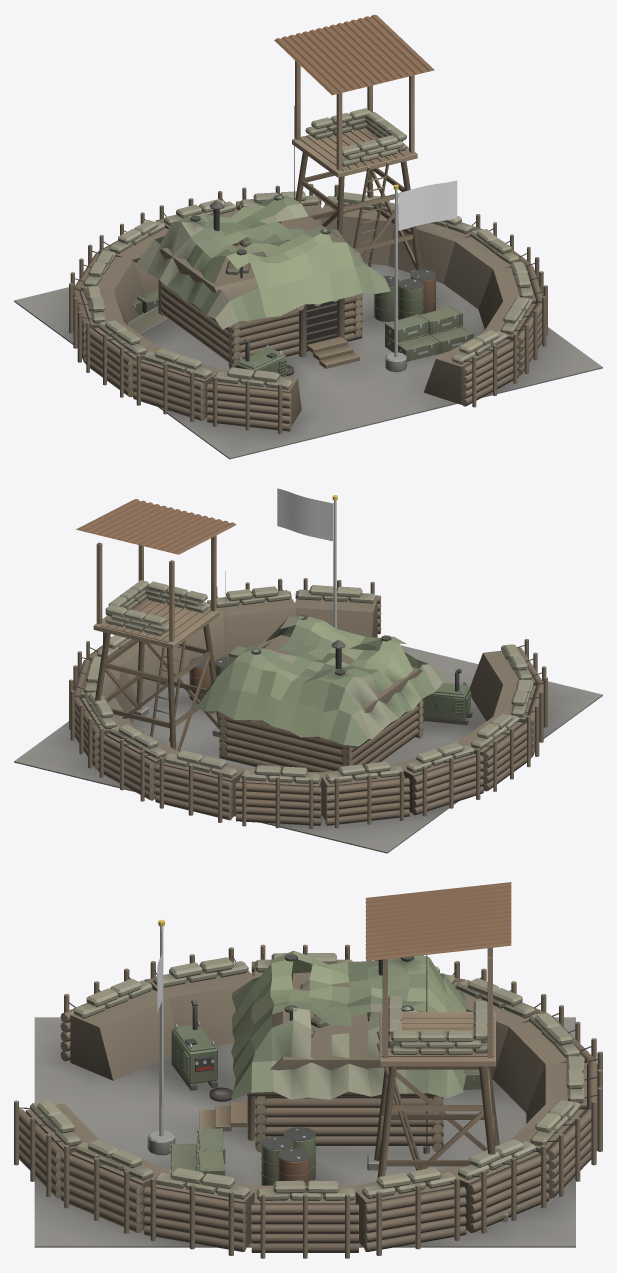
File: struct_fob_rus.glb
3 renders of one model, top to bottom at view 1: azimuth 30°, elevation 25°; view 2: azimuth 150°, elevation 25°; view 3: azimuth 270°, elevation 25°, orthographic. The views are drawn at different scales.
Parts seen in each view (by area): view 1: struct_fob_rus; view 2: struct_fob_rus; view 3: struct_fob_rus.
Part boxes in pixels (x1=…): struct_fob_rus: x1=14, y1=14, x2=602, y2=459; struct_fob_rus: x1=14, y1=488, x2=602, y2=853; struct_fob_rus: x1=14, y1=882, x2=602, y2=1258.
Bounding box in the file's own units: 10.78 × 5.63 × 10.66.
